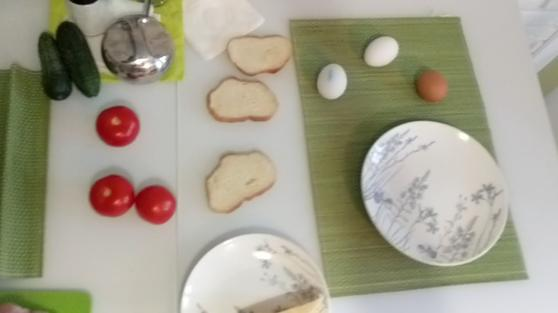cucumber: (56, 19, 103, 100), (37, 32, 70, 101)
egg: (315, 62, 347, 100), (364, 34, 399, 67), (415, 68, 448, 101)
tomato: (87, 175, 136, 218), (95, 106, 141, 146), (135, 185, 177, 225)
white_bread: (203, 149, 277, 213), (206, 77, 279, 123), (228, 34, 293, 75)
